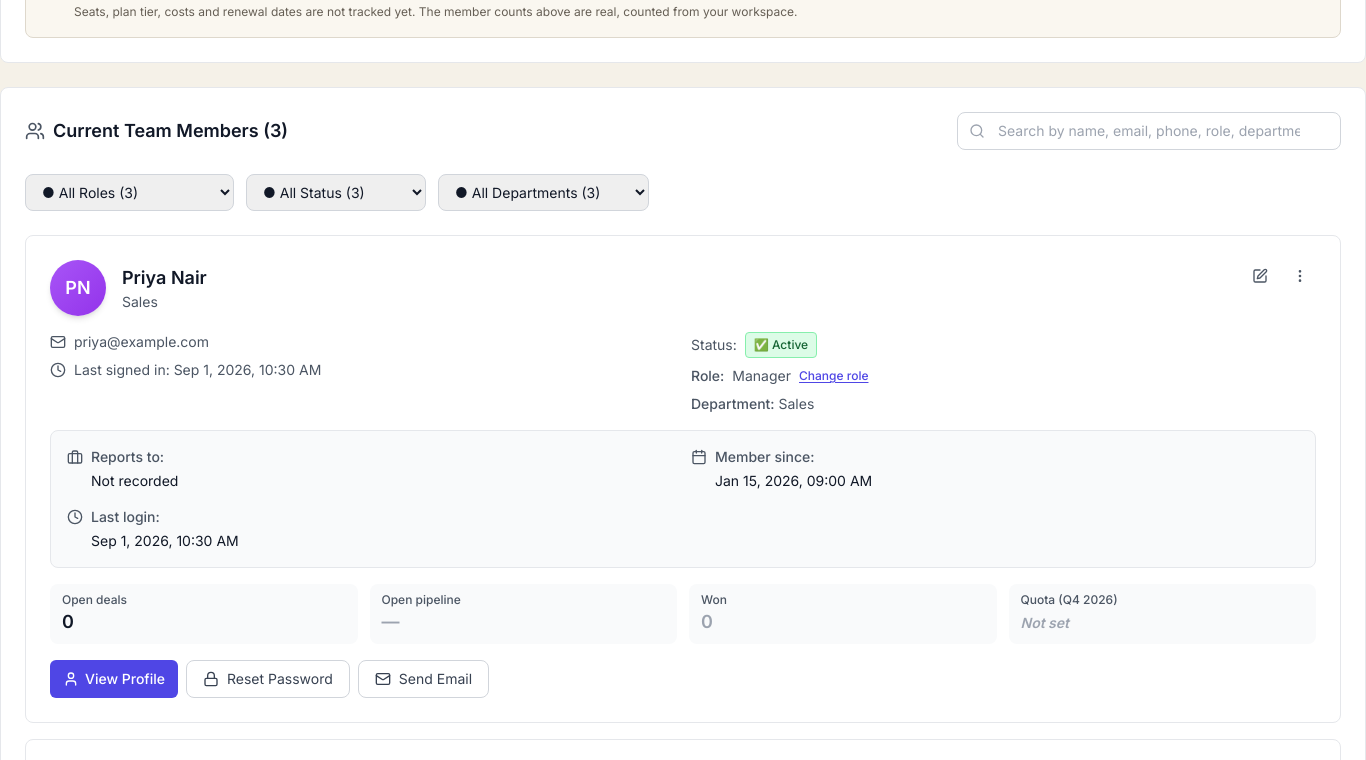
Test case: TeamManagement — the role picker › a 409 from the last-admin guard is shown inline, verbatim, and the dialog stays open
The image size is (1366, 760).
(page scrolled)
Expected: the heading "Priya Nair" is shown, [122,264,207,292]
Click the button "Change role": click(834, 376) [799,368,868,384]
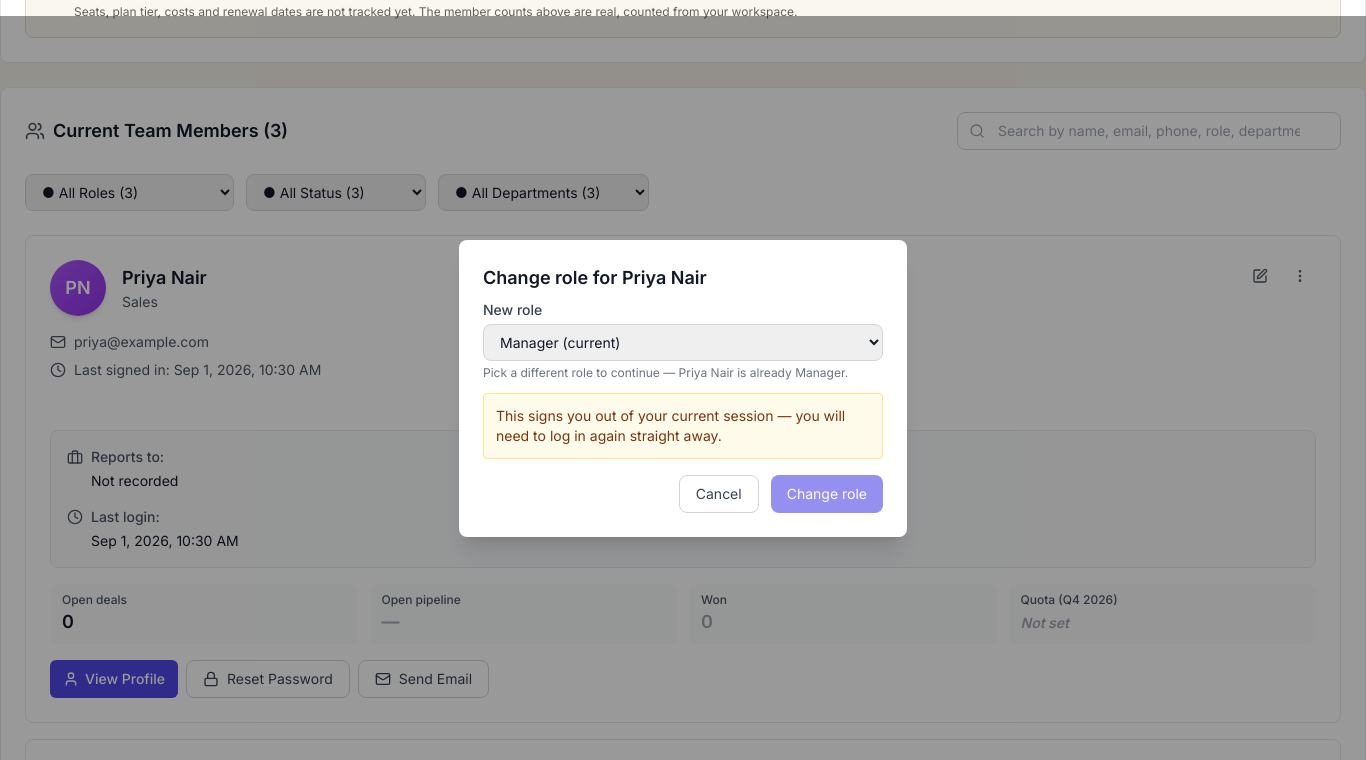
Select "Sales" in the dropdown labelled "New role": (683, 342) [483,324,883,360]
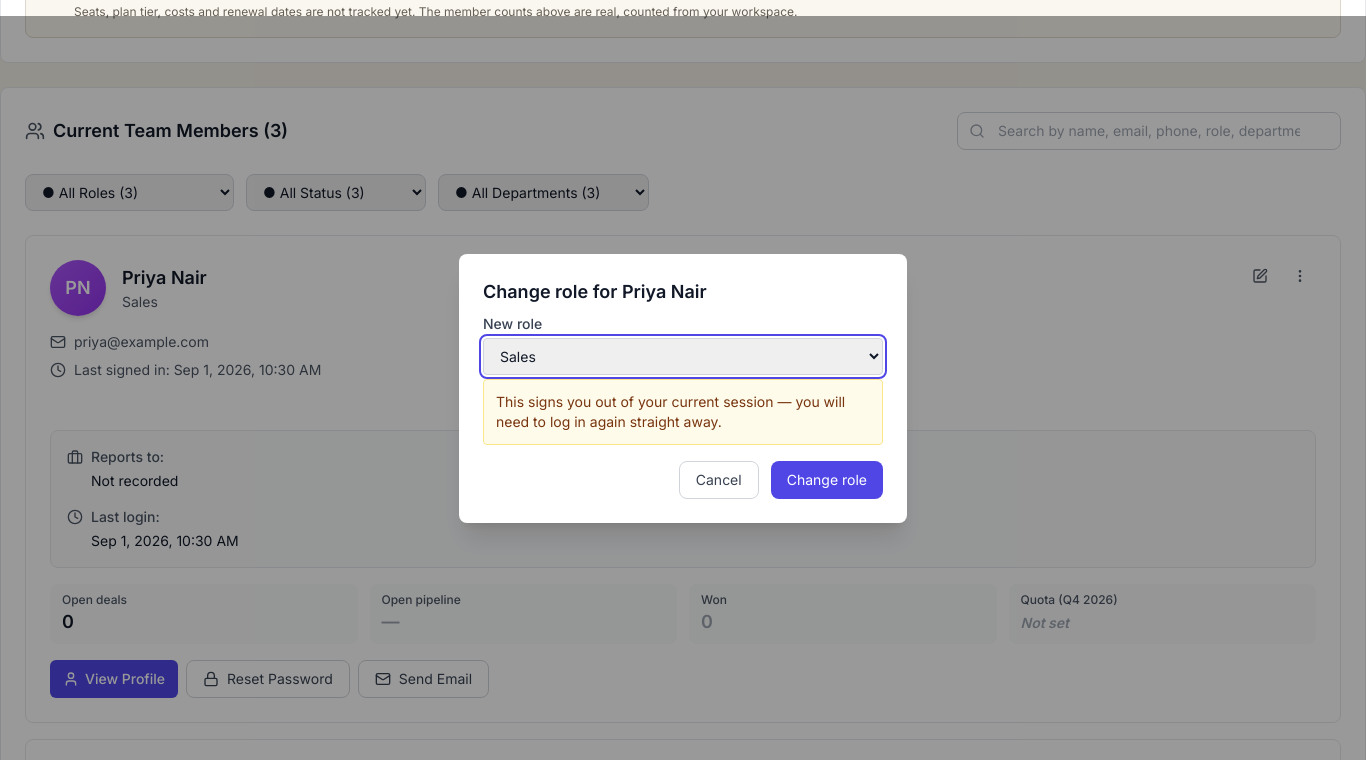
Click the button "Change role": click(827, 480) [771,460,883,498]
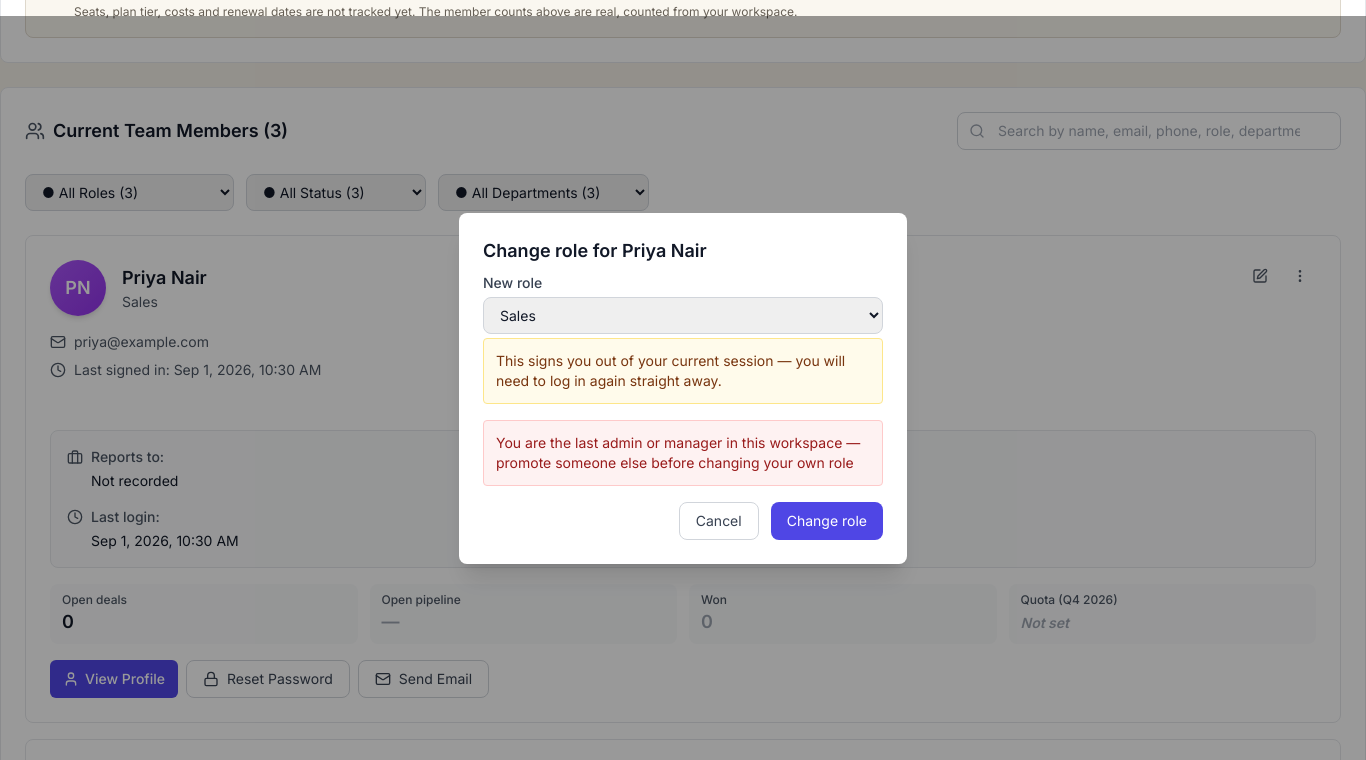
Expected: the heading "Priya Nair" is shown, [122,264,207,292]
Expected: the message shows "You are the last admin or manager in this workspace — promote someone else before changing your own role", [496,434,860,470]
